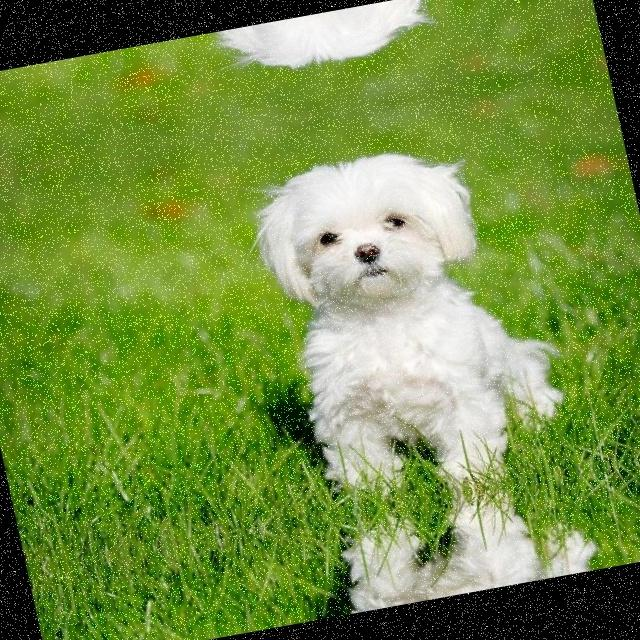dog: (208, 116, 527, 346), (180, 0, 474, 103)
